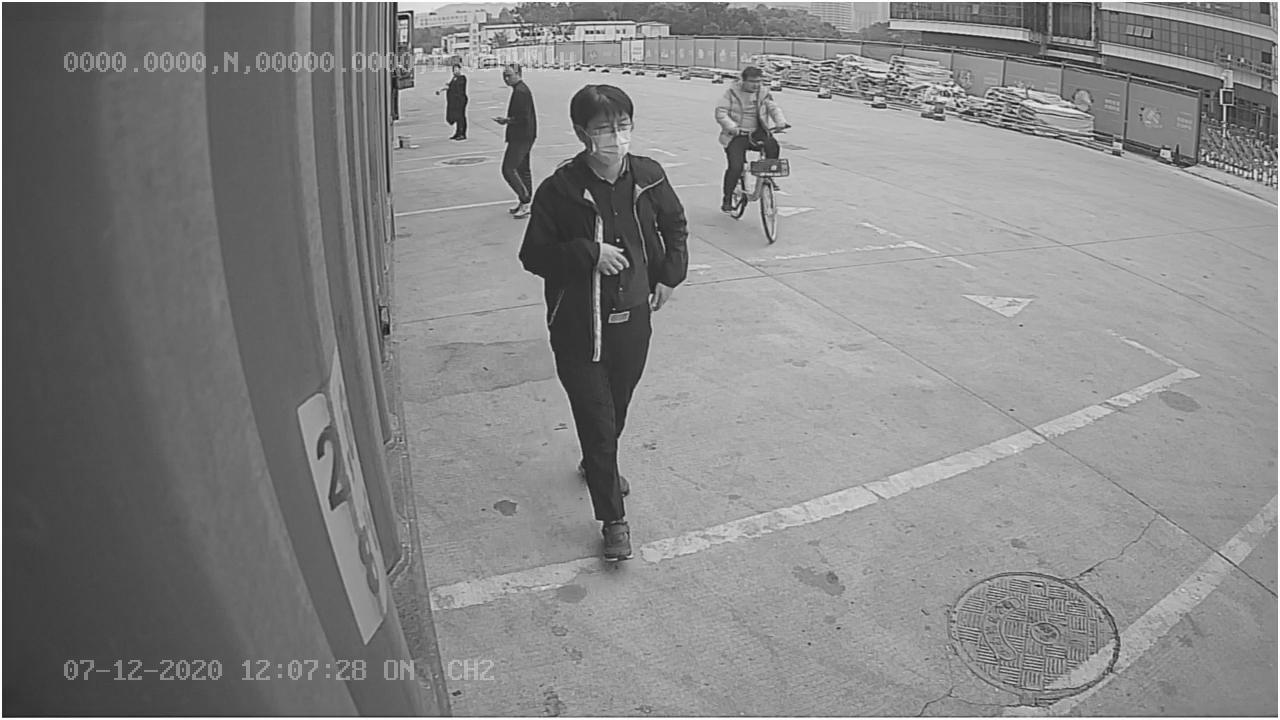person: (528, 78, 694, 562)
